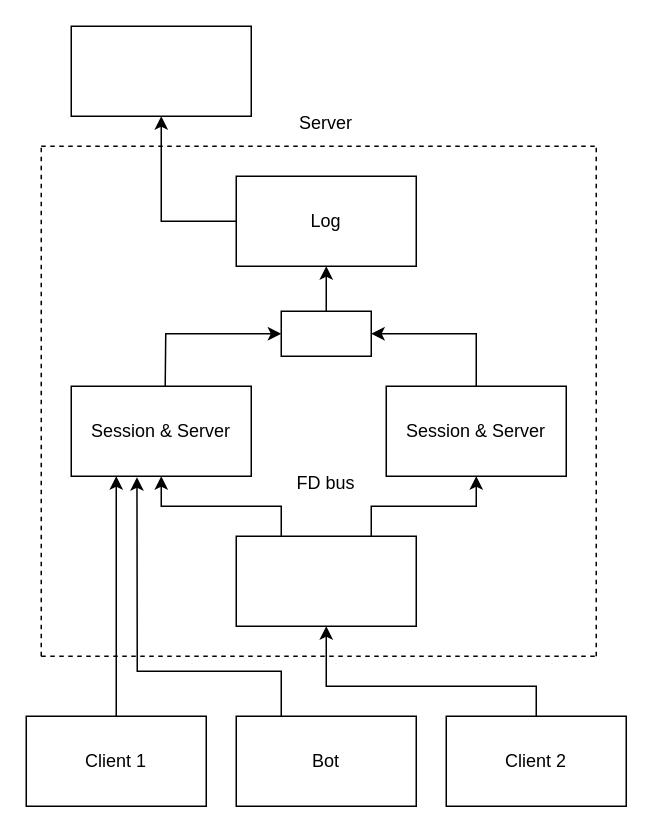
The diagram is 653 pixels wide and 833 high, and some of its shapes have lost their labels. The centre of each missing label's shape, as x and y in pixels:
"MPSC" belongs at [325,333].
"Session" belongs at [325,580].
"Stats" belongs at [160,70].
